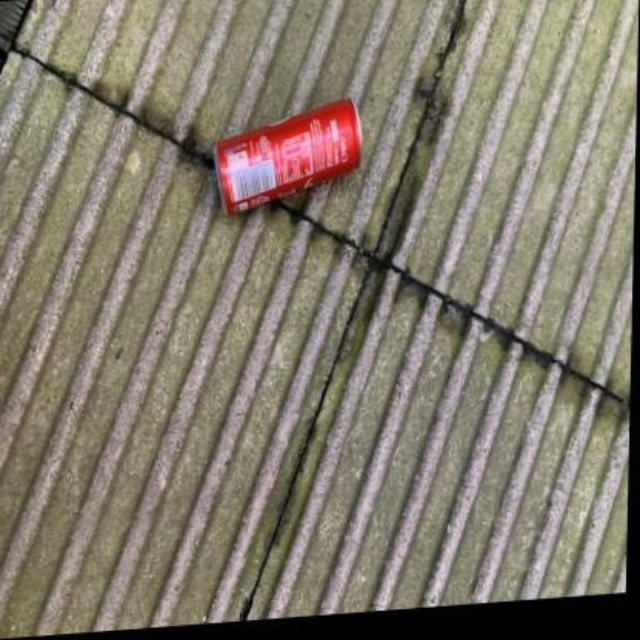trash: (215, 98, 360, 214)
